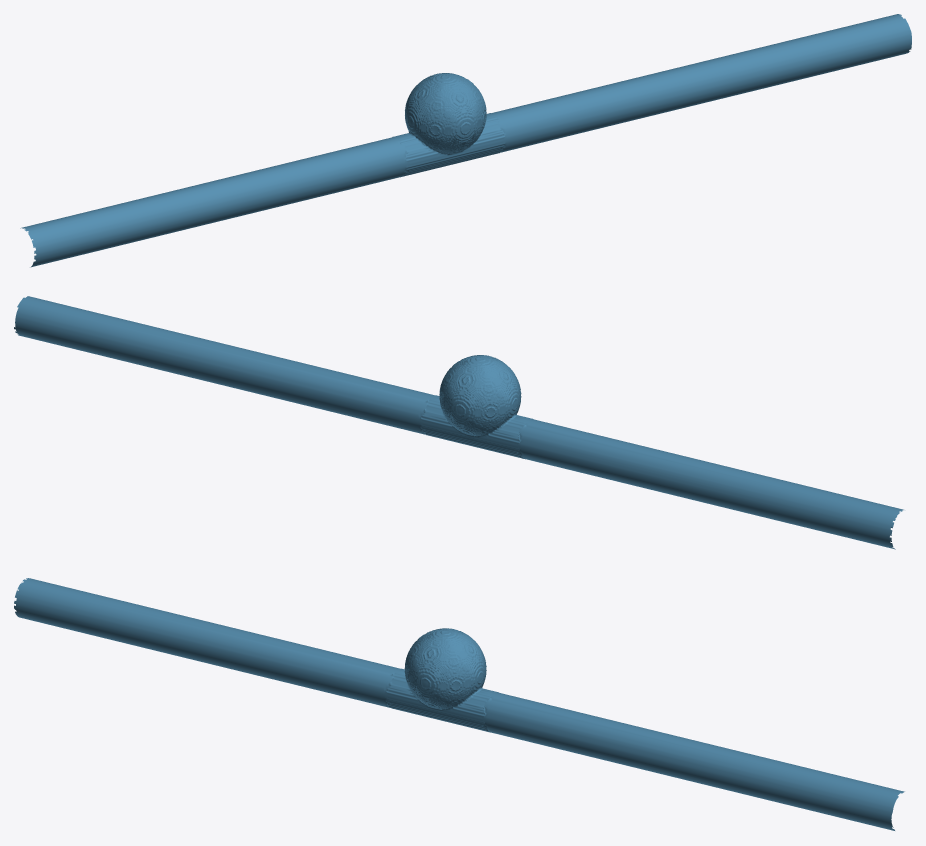
File: PT-2026-0101-osi.glb
3 views of the same model, one above another, from view 1: azimuth 30°, elevation 25°; view 2: azimuth 150°, elevation 25°; view 3: azimuth 330°, elevation 25° (orthographic).
Visible parts, largest first — view 1: geometry_0; view 2: geometry_0; view 3: geometry_0.
Boxes of the visible parts, <box> form: geometry_0: <box>20,14,911,267</box>; geometry_0: <box>14,296,903,549</box>; geometry_0: <box>14,578,904,830</box>.
Bounding box in the file's own units: 1.92 × 0.1814 × 0.154.
